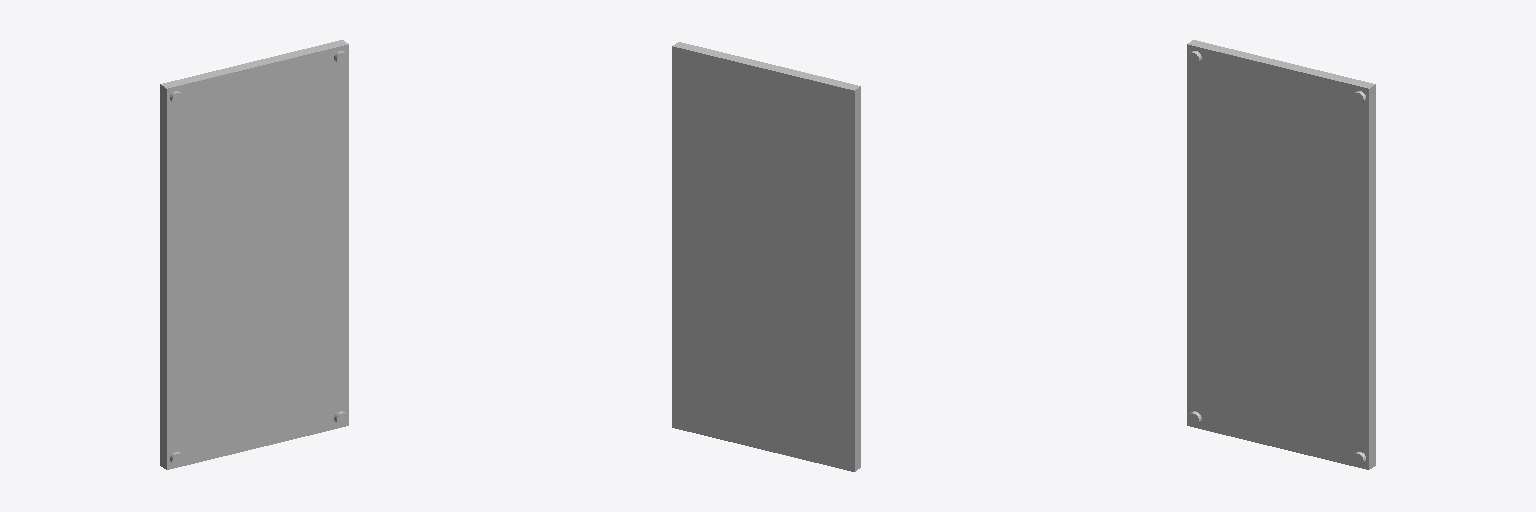
File: espejo.obj
3 renders of one model, left to right at view 1: azimuth 30°, elevation 25°; view 2: azimuth 150°, elevation 25°; view 3: azimuth 330°, elevation 25°, orthographic.
Parts seen in each view (by area): view 1: espejo.001, Circle.013; view 2: espejo.001; view 3: espejo.001, Circle.013.
Part boxes in pixels (x1,y1,x2,y2): espejo.001: (160, 40, 348, 469); Circle.013: (170, 51, 348, 465); espejo.001: (672, 42, 860, 471); espejo.001: (1187, 40, 1375, 469); Circle.013: (1187, 51, 1365, 465).
Size of the model in its own units: 0.3774 by 0.7548 by 0.0322.